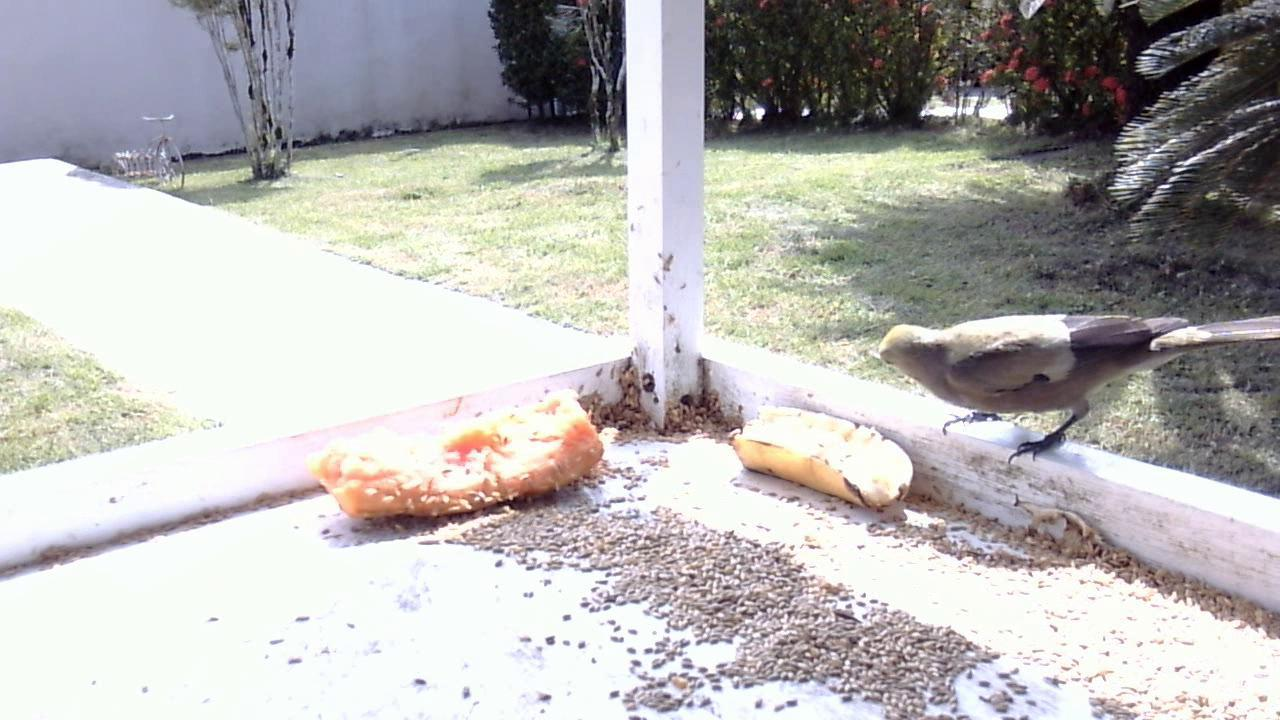sanhaco_do_coqueiro: (868, 304, 1273, 478)
